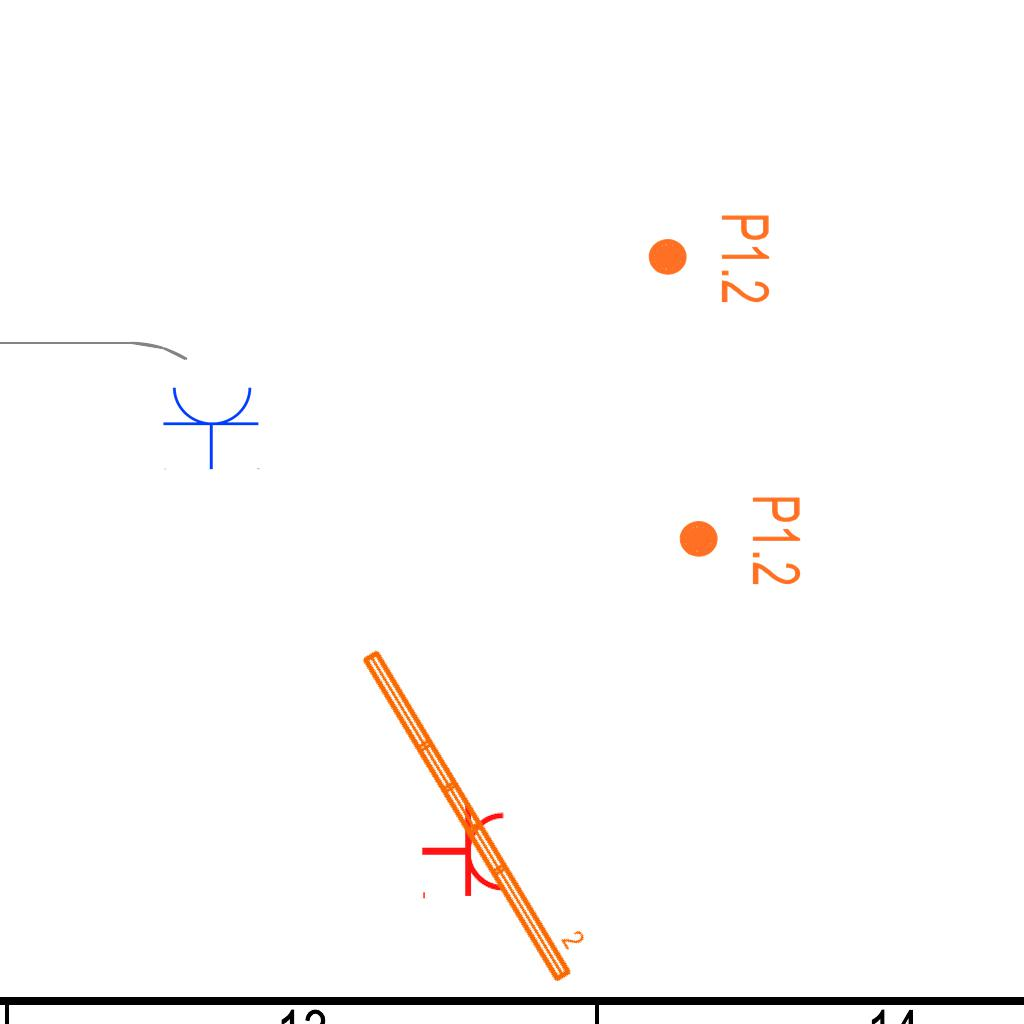Ambulanz_Pendelleuchte_LED: (353, 628, 602, 990)
Downlight_LED_Einbauleuchten_Flur: (645, 212, 773, 305), (676, 494, 804, 587)
Schukosteckdose_einfach: (162, 383, 262, 470), (420, 803, 507, 903)
